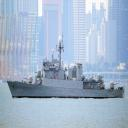Fragata: (8, 35, 127, 101)
